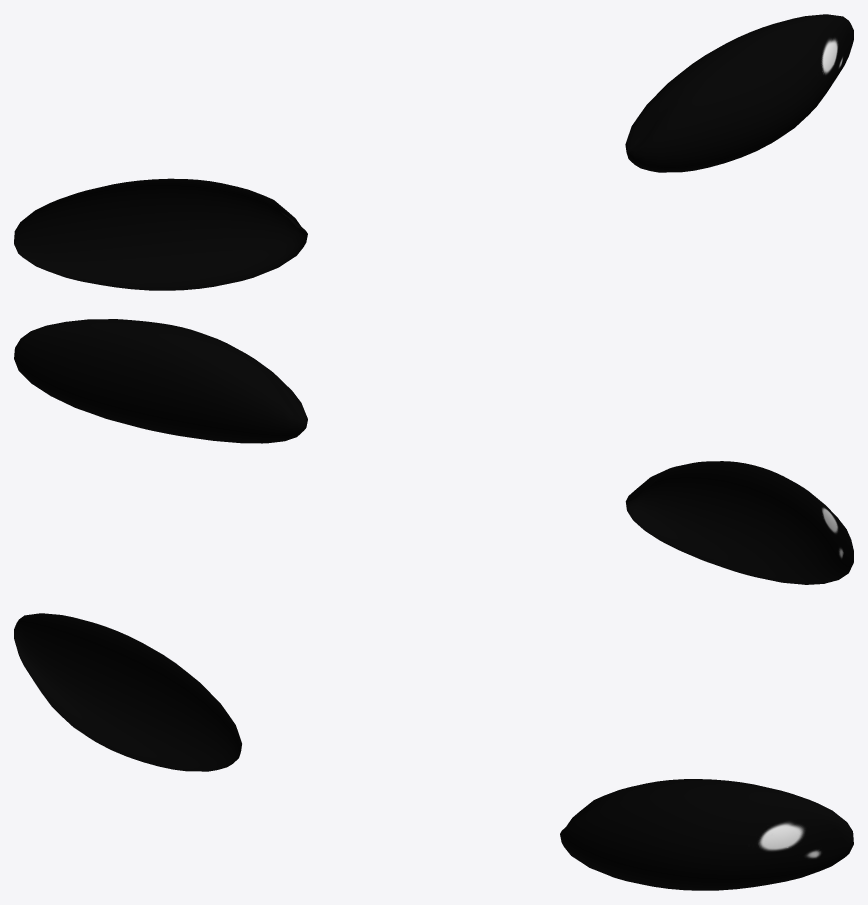
Rendered from Tired.glb.
3 renders of one model, top to bottom at view 1: azimuth 30°, elevation 25°; view 2: azimuth 150°, elevation 25°; view 3: azimuth 330°, elevation 25°, orthographic.
Visible parts, largest first — view 1: Sphere.002; view 2: Sphere.002; view 3: Sphere.002.
Boxes of the visible parts, x1,y1,x2,y2 form: Sphere.002: (14, 14, 853, 290); Sphere.002: (14, 319, 853, 584); Sphere.002: (14, 613, 853, 890).
Size of the model in its own units: 0.3595 by 0.0436 by 0.0414.
Materials: 1 (1 with a texture image).
